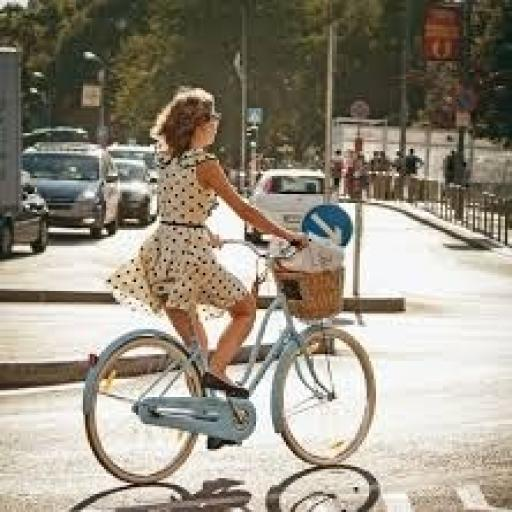cycling: (106, 86, 311, 402)
